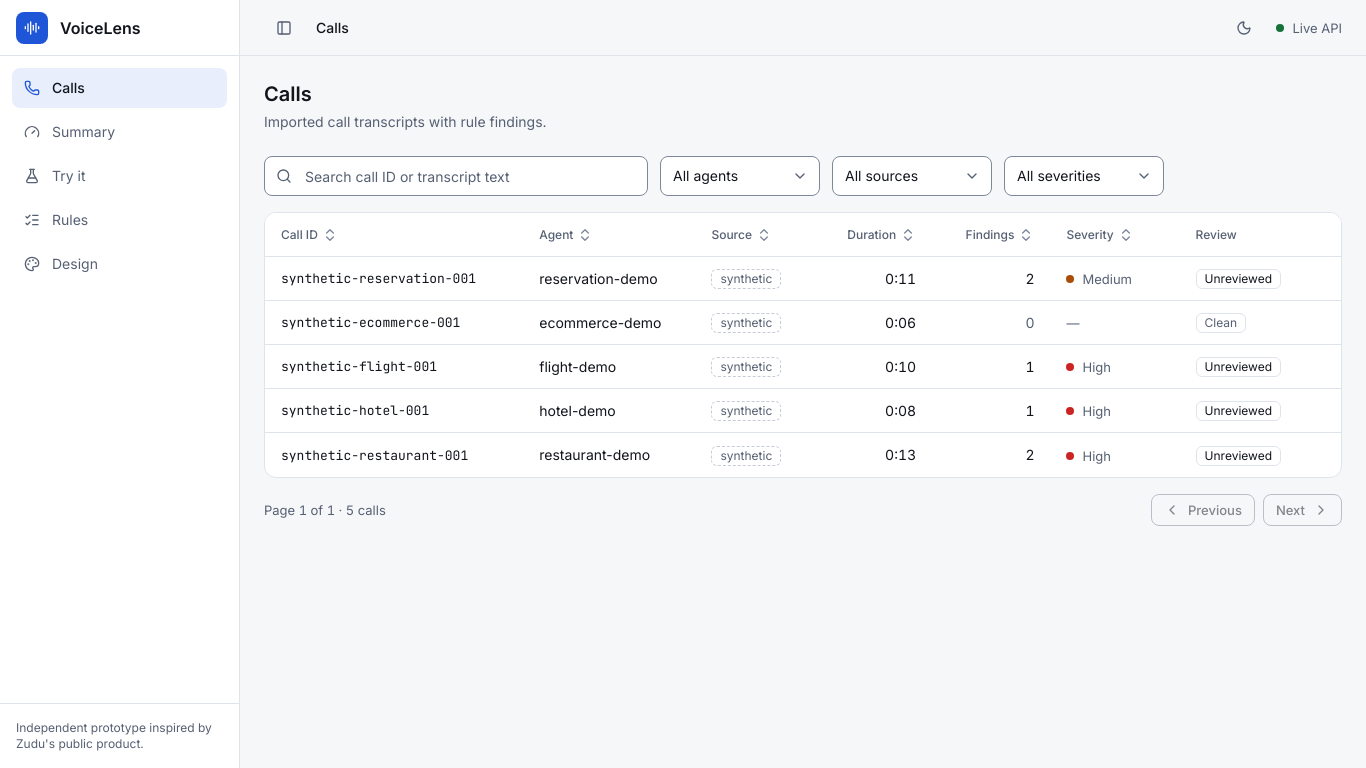
Test case: app shell › navigates between pages with the sidebar
Click the link "Summary": (70, 132) [24,123,115,140]
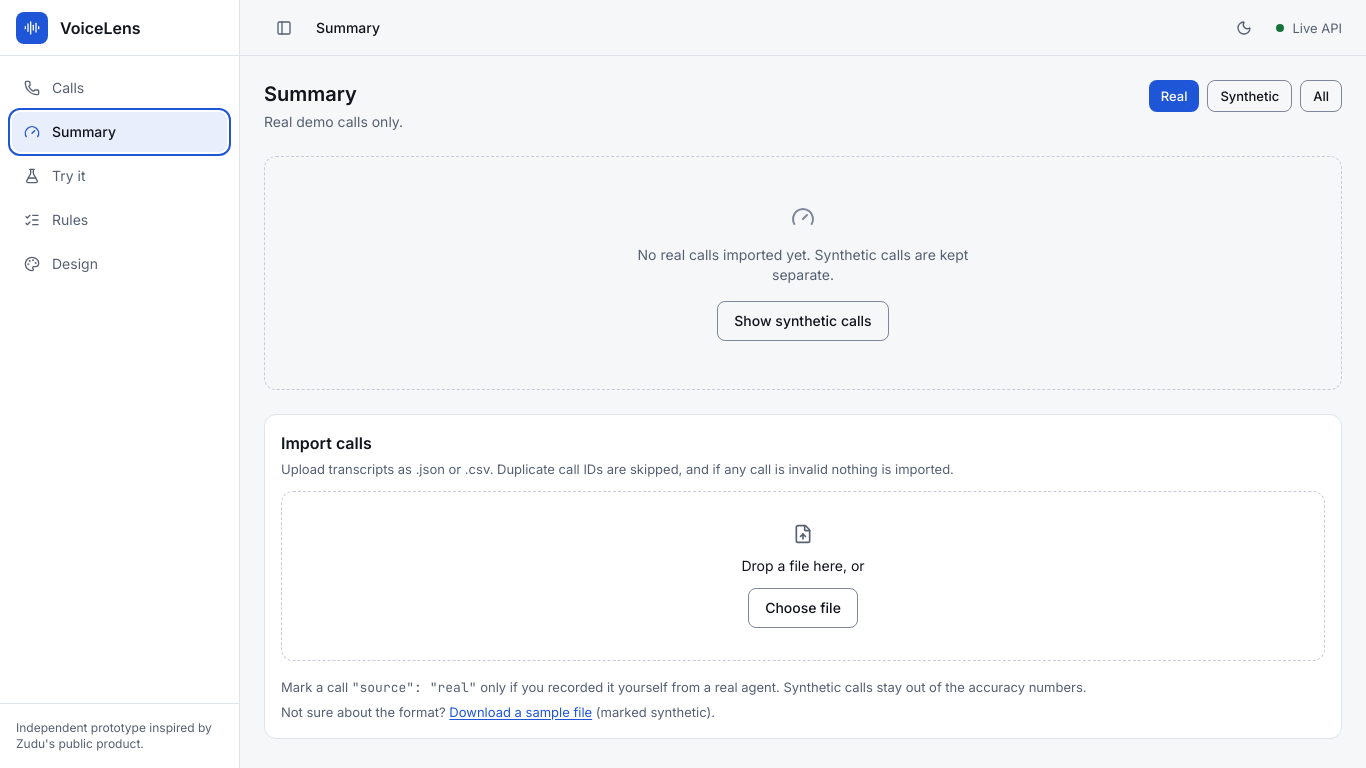
Expected: the heading "Summary" is shown, [264,82,357,106]
